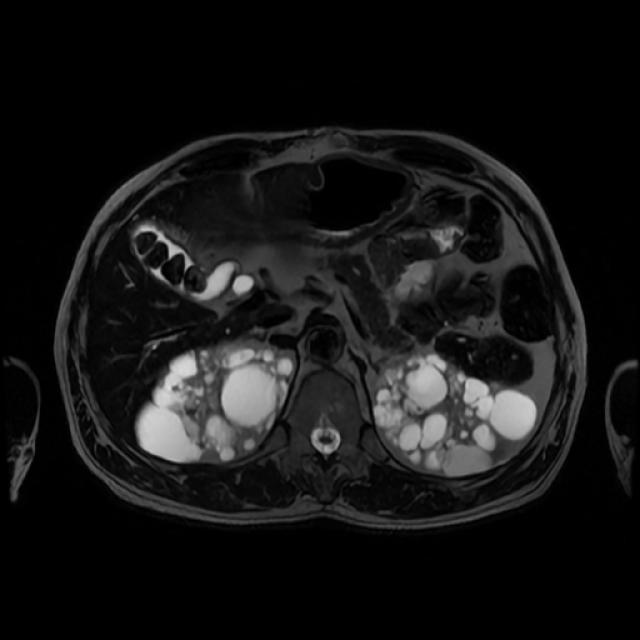sag: (133, 337, 300, 466)
sol: (372, 354, 539, 476)
